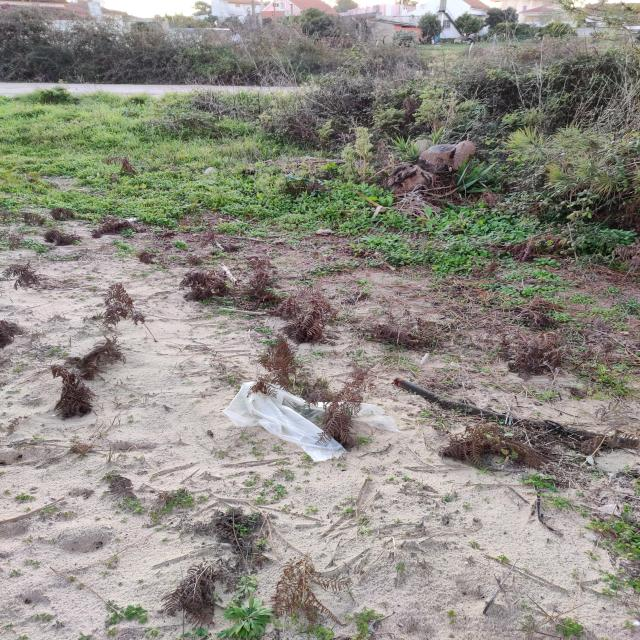litter: (224, 383, 395, 465)
